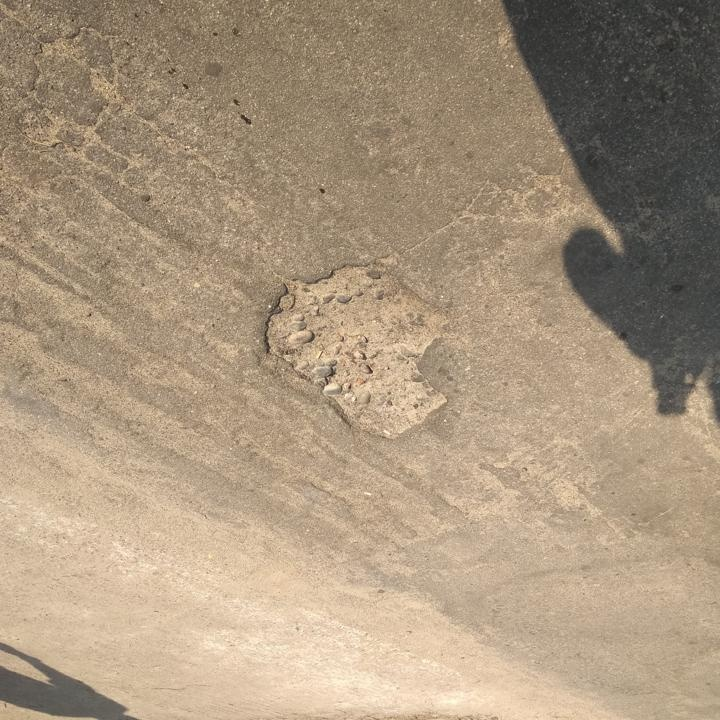pothole: (256, 261, 451, 443)
